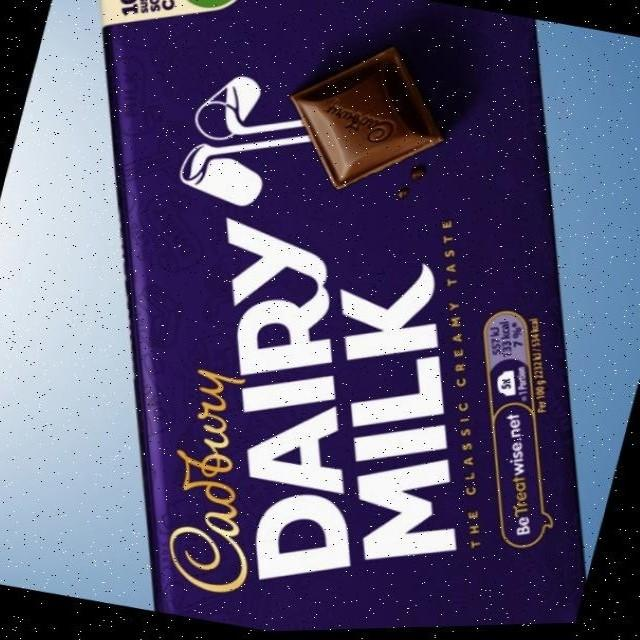cadbury_chocolate: (112, 5, 583, 612)
